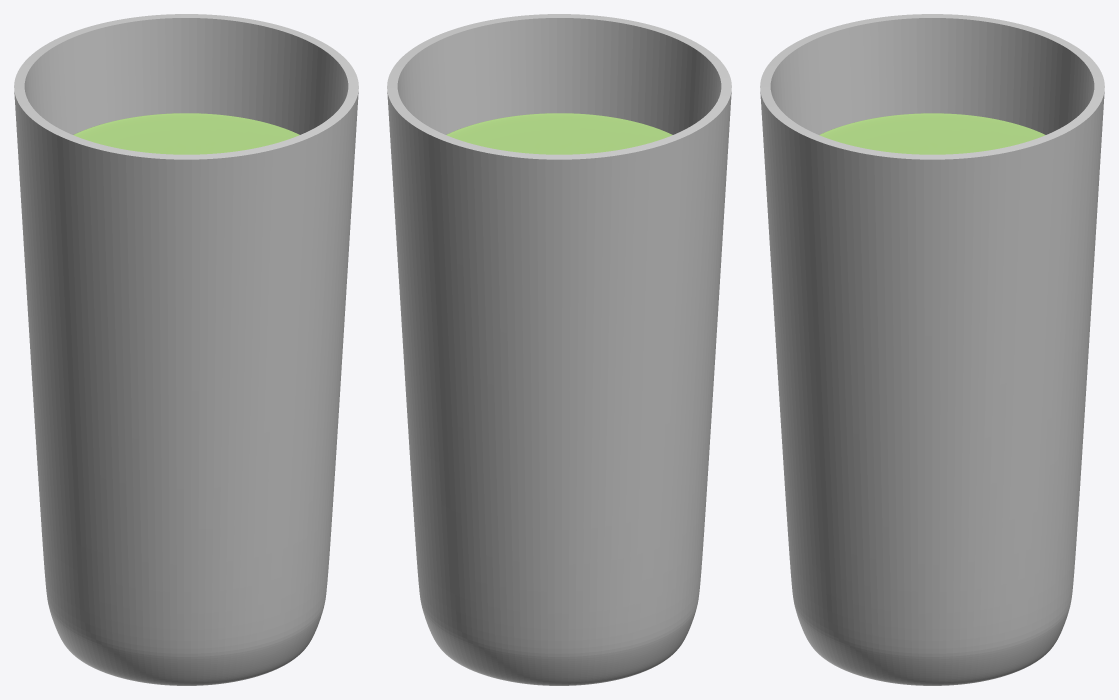
The model's file is avacado milk.fbx.
3 views of the same model, side by side, from view 1: azimuth 30°, elevation 25°; view 2: azimuth 150°, elevation 25°; view 3: azimuth 270°, elevation 25° (orthographic).
Visible parts, largest first — view 1: Circle.003, Circle.004; view 2: Circle.003, Circle.004; view 3: Circle.003, Circle.004.
Boxes of the visible parts, bbox=[...] form: Circle.003: bbox=[14, 14, 358, 685]; Circle.004: bbox=[73, 113, 299, 154]; Circle.003: bbox=[387, 14, 731, 685]; Circle.004: bbox=[446, 113, 672, 154]; Circle.003: bbox=[760, 14, 1104, 685]; Circle.004: bbox=[819, 113, 1045, 154].
Size of the model in its own units: 65.57 by 115 by 65.57.
